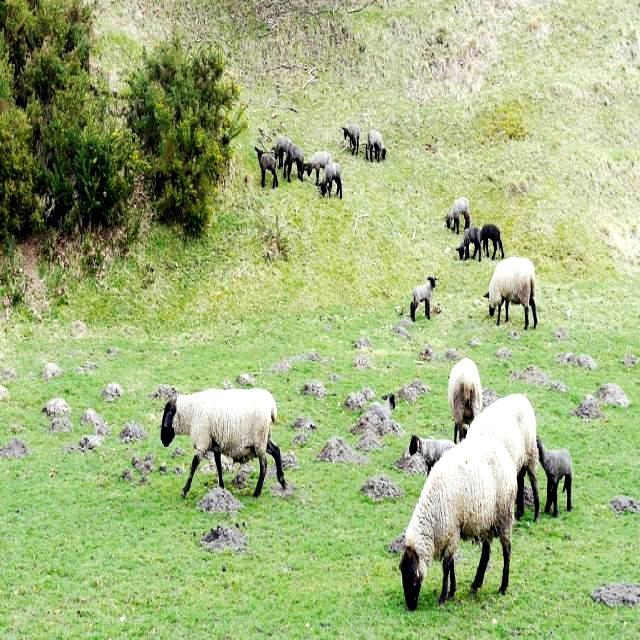sheep: (400, 434, 517, 609), (160, 388, 281, 493), (469, 398, 537, 516), (483, 259, 536, 329), (448, 357, 480, 444), (536, 440, 570, 517), (410, 437, 453, 473)
